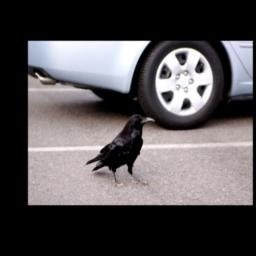Crow: (84, 112, 155, 186)
